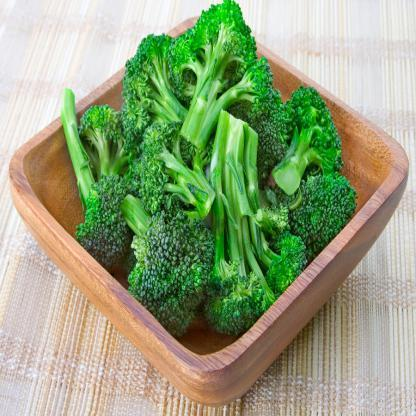broccoli: (61, 0, 357, 341)
